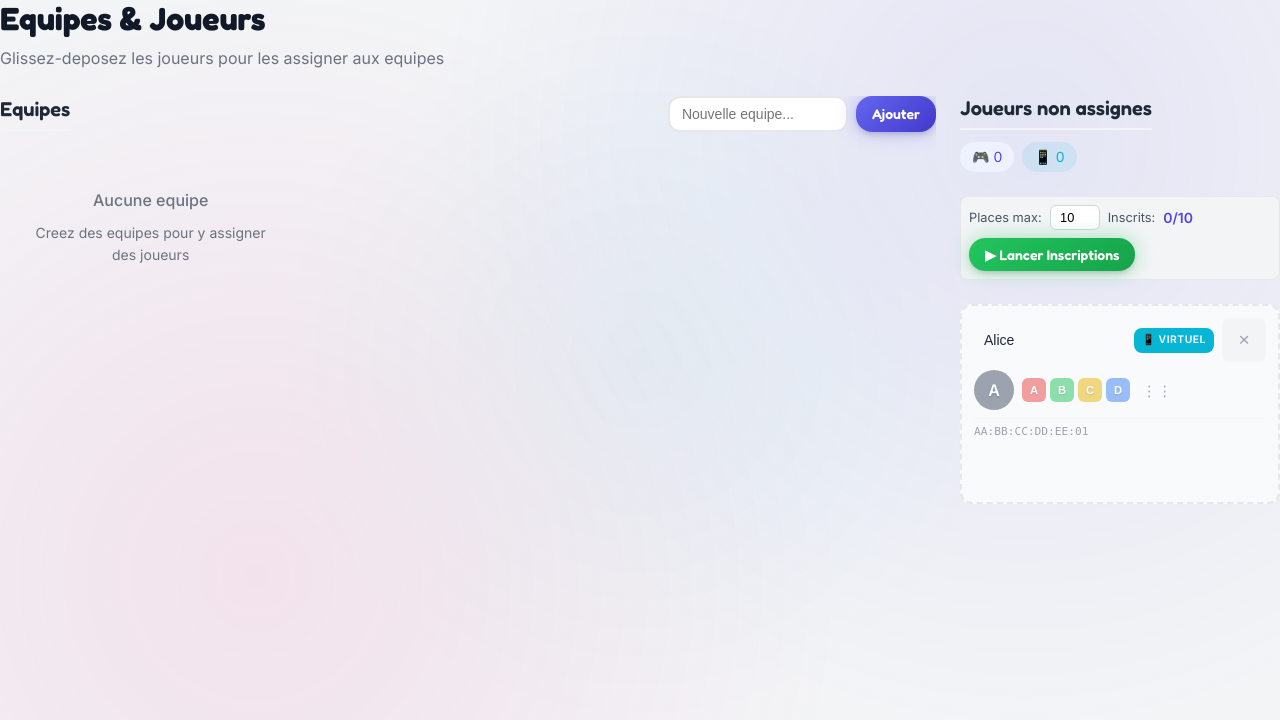
it: TeamsPage — suppression d'un joueur émet DELETE_BUMPER, pas UPDATE (#123, F1) › avertissement "inscriptions fermées" affiché quand enrollmentActive est faux
The width and height of the screenshot is (1280, 720).
What coordinates should you click on to do the following:
click the button titled "Supprimer le joueur"
I would click on:
 (1244, 340)
Its box is [1222,318,1266,362].
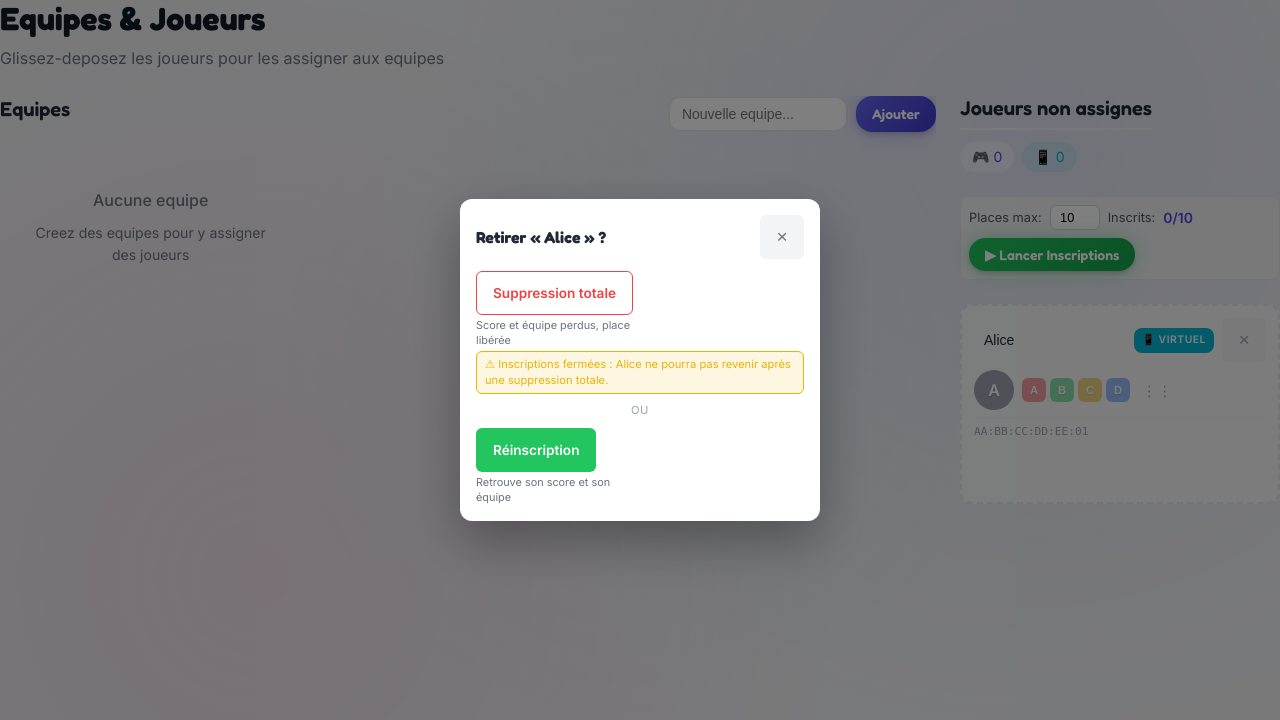
Expected: the text "Inscriptions fermées" is shown, [485,357,616,371]
